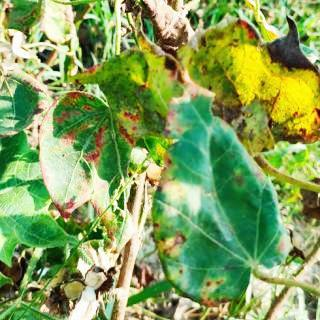blight: (35, 18, 193, 254)
